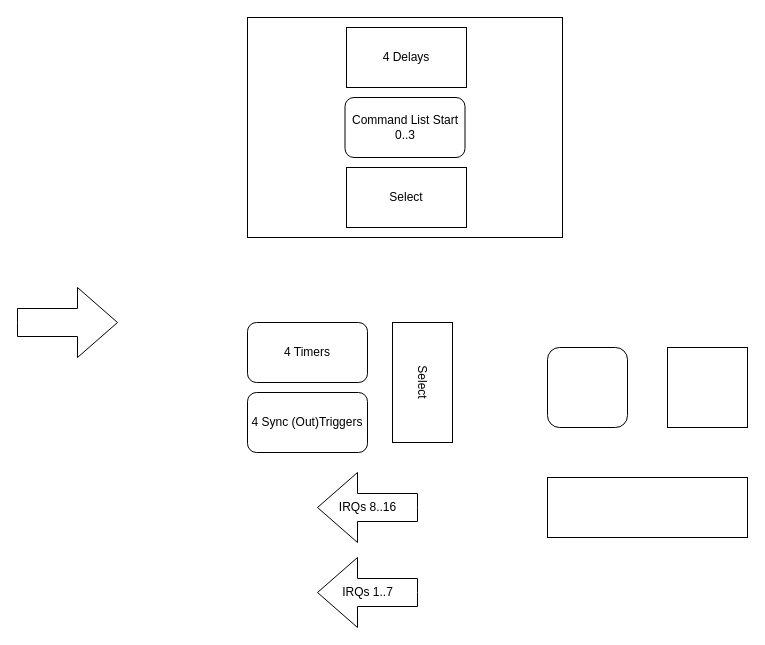
Image size: 765x645. Some labels were removed from this diagram. Here are the shapes that lost their labels. From the top down, the centre of each, then its label:
At (x=587, y=387): "Command Processor 16 Cmd Lists".
At (x=707, y=387): "WR/PTP Timed Trigger".
At (x=647, y=507): "Select / Map".
